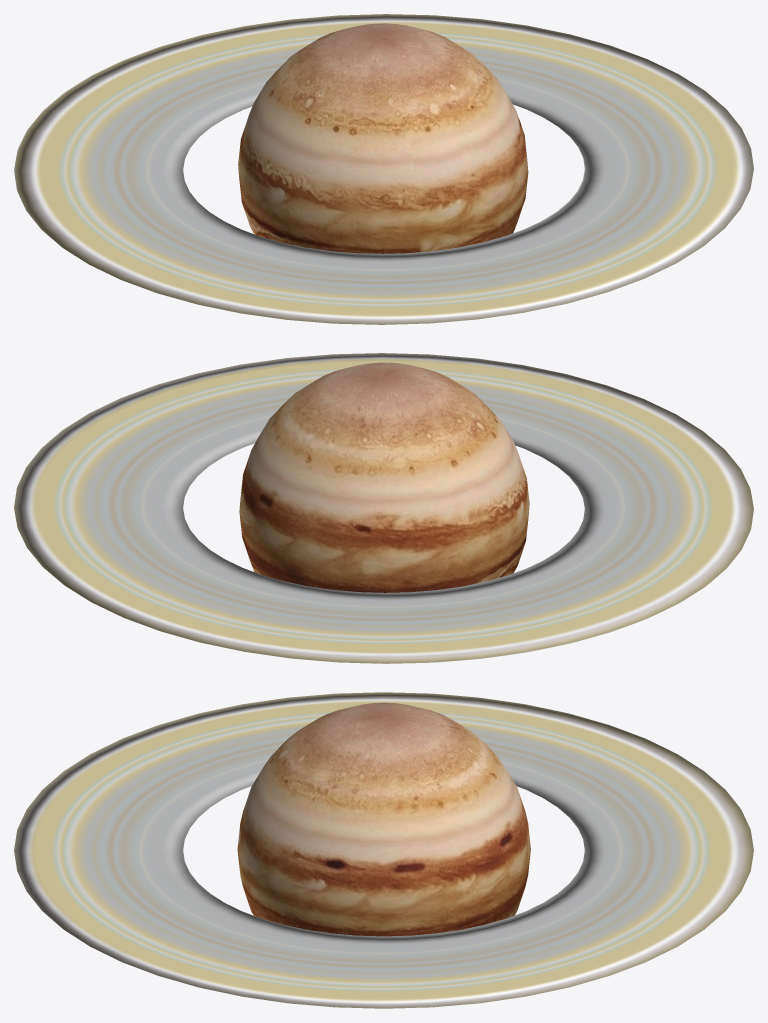
The model's file is jupiter.glb.
3 views of the same model, one above another, from view 1: azimuth 30°, elevation 25°; view 2: azimuth 150°, elevation 25°; view 3: azimuth 270°, elevation 25° (orthographic).
Visible parts, largest first — view 1: Jupiter; view 2: Jupiter; view 3: Jupiter.
Part boxes in pixels (<box>): Jupiter: <box>14,14,753,324</box>; Jupiter: <box>14,353,753,663</box>; Jupiter: <box>14,692,753,1008</box>.
Size of the model in its own units: 135 by 53.02 by 134.
Materials: 2 (2 with a texture image).
